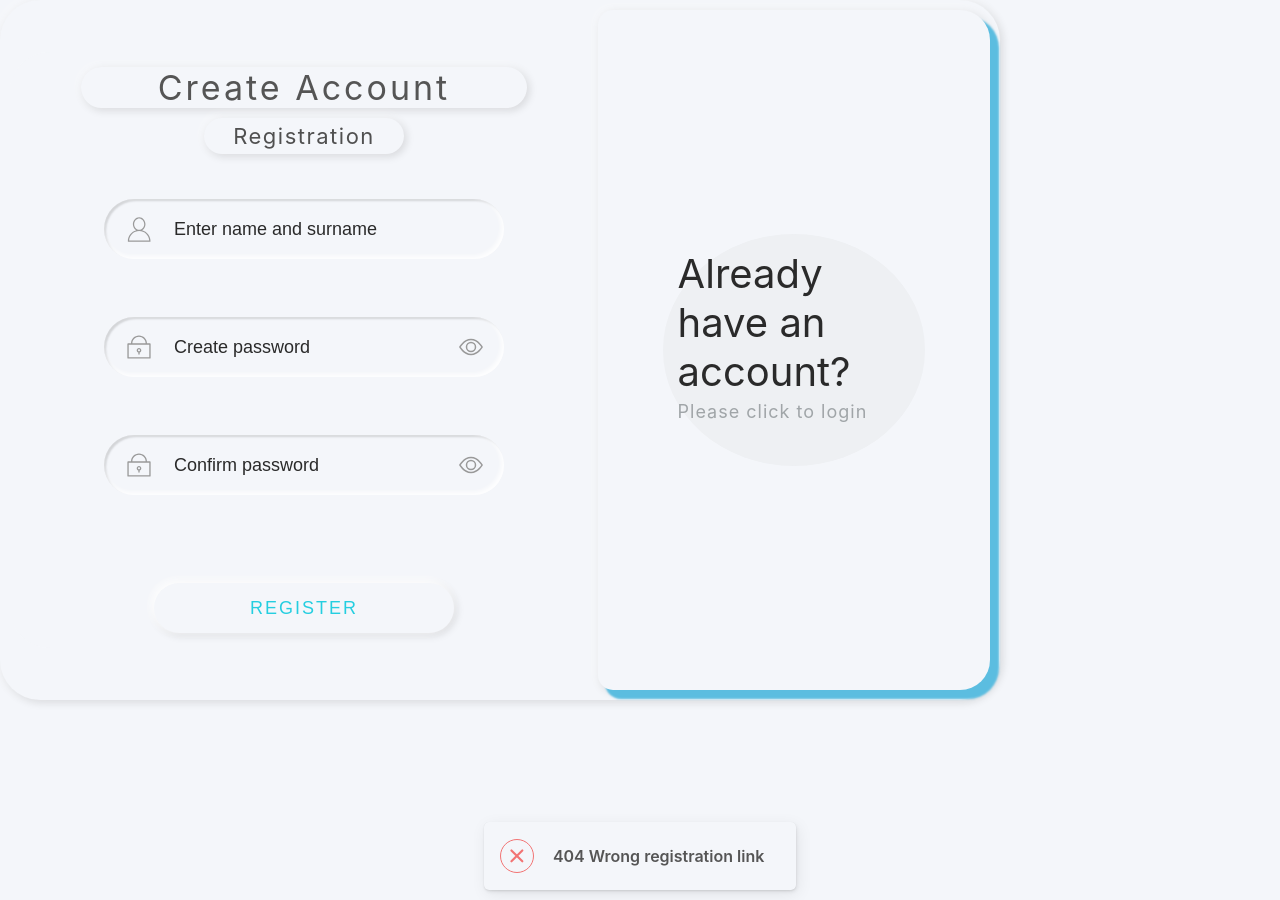
Register tests › error in password
The image size is (1280, 900).
Type "123" into the password field labelled "Create password". click: (312, 347)
box: x1=164 y1=316 x2=459 y2=378
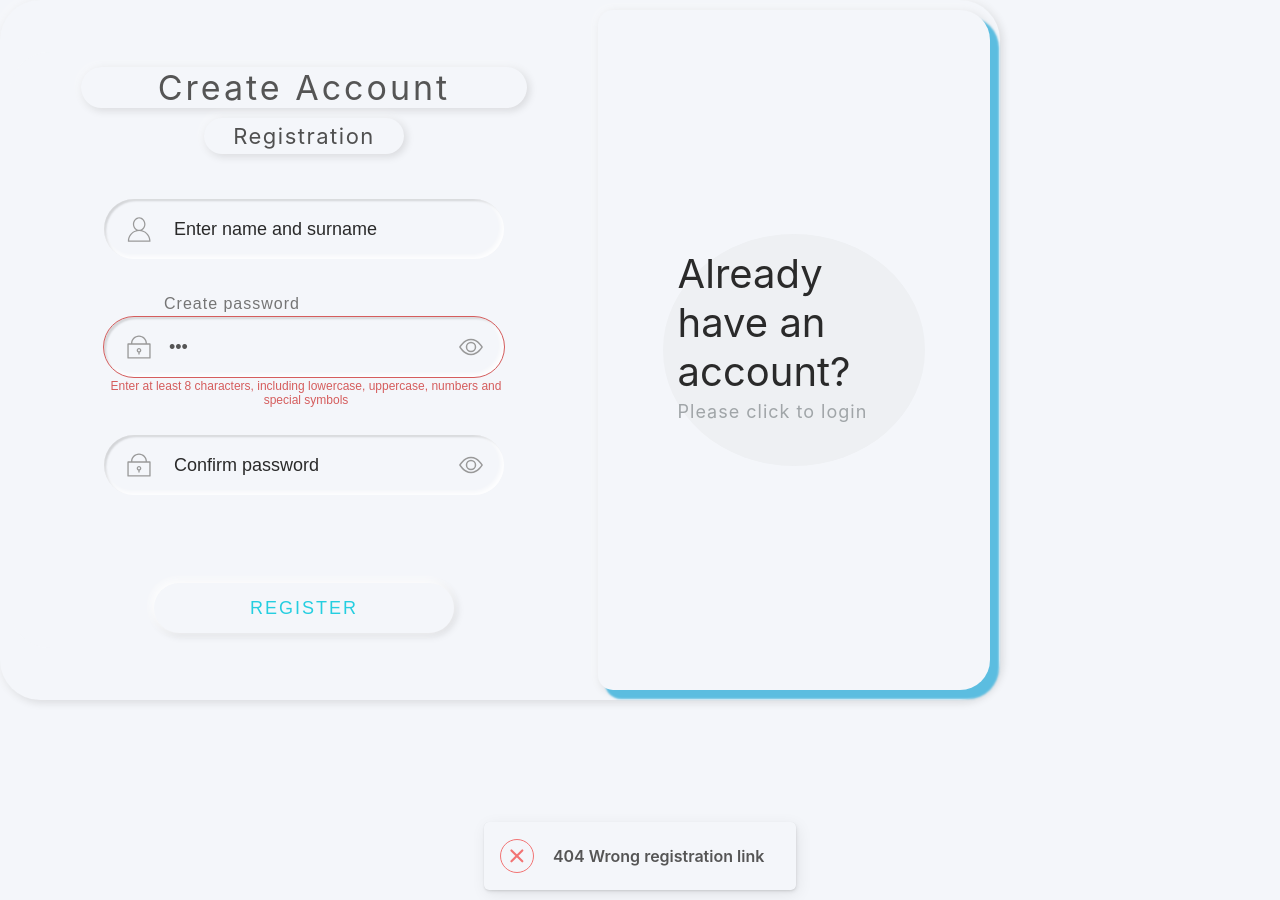
Expected: the text "Enter at least 8 characters, including lowercase, uppercase, numbers and special symbols" is shown, x1=110 y1=379 x2=501 y2=407
